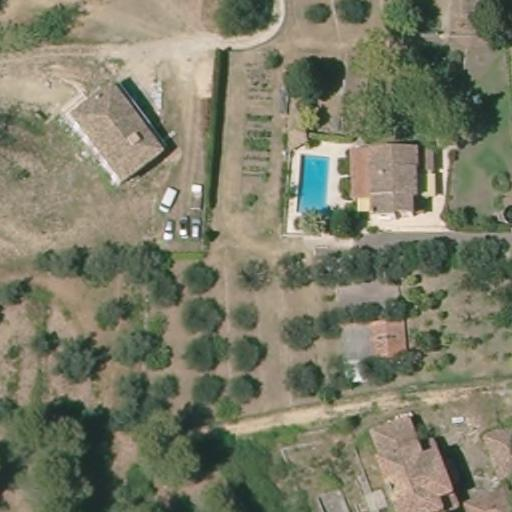pool: (290, 150, 337, 230)
